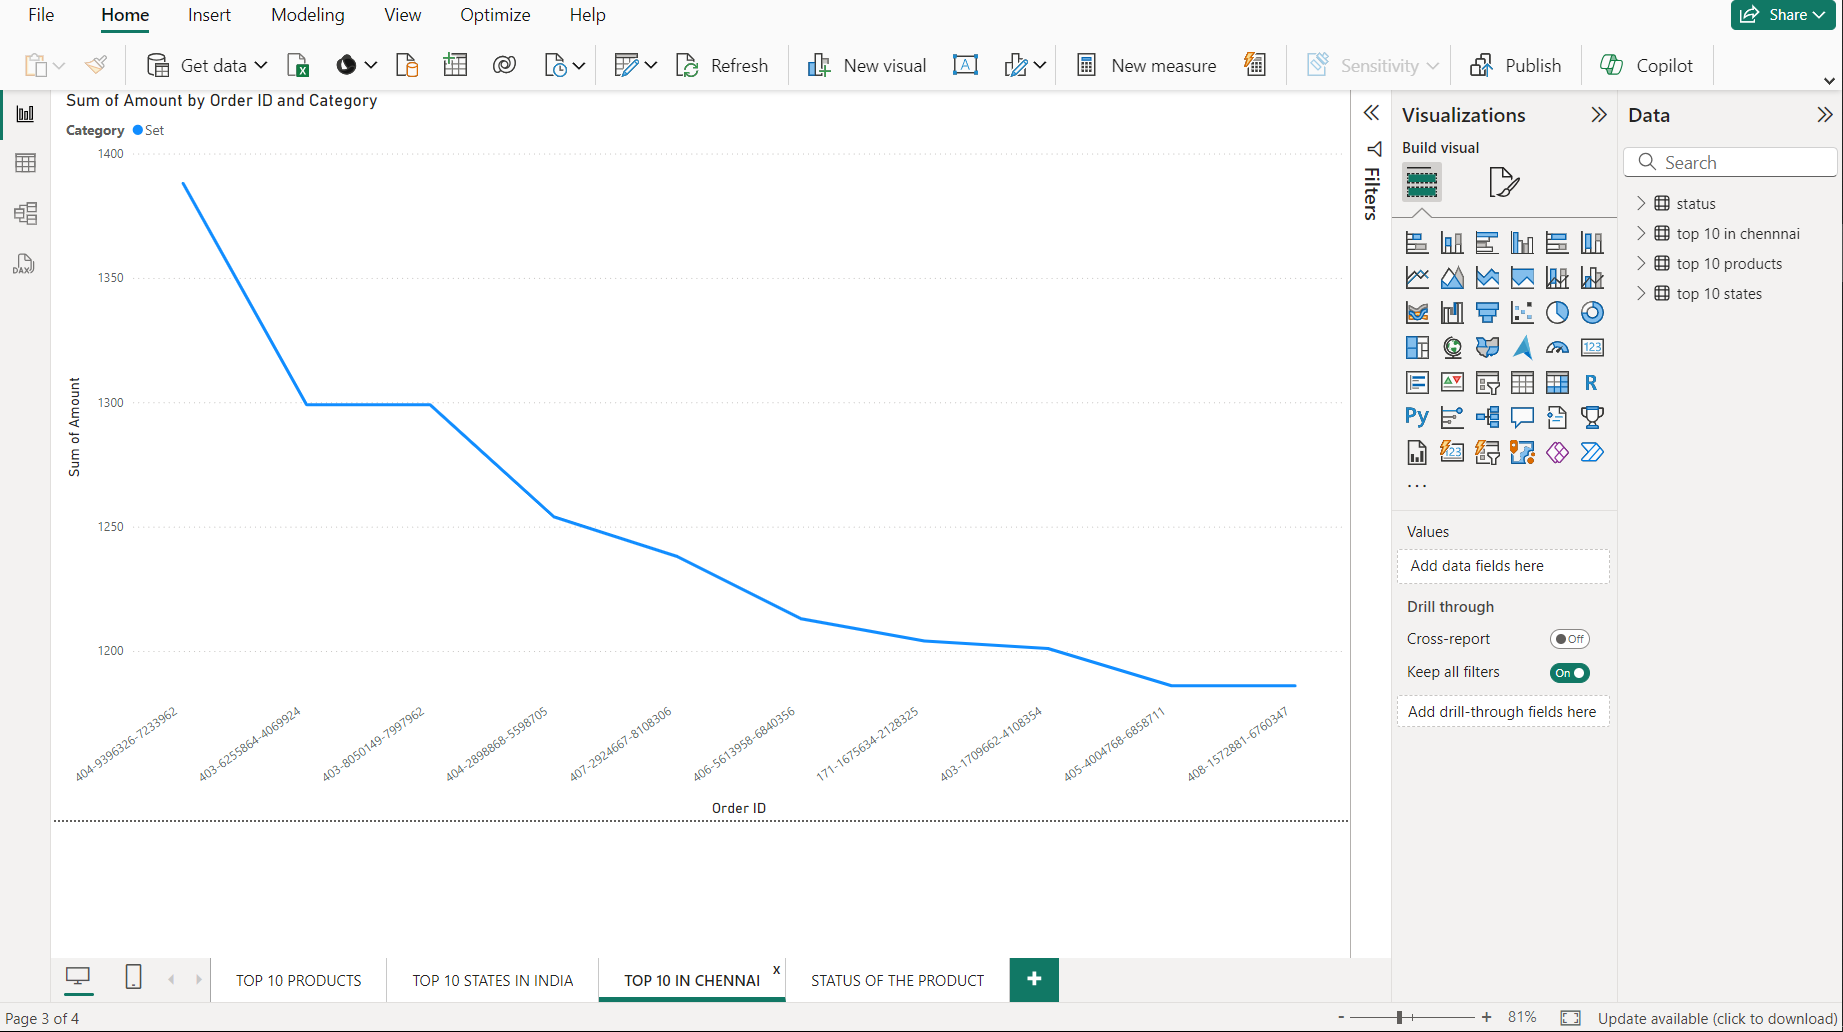

The dashboard page shown, as its layout file describes it:
{"tool":"powerbi","page":{"name":"TOP 10 IN CHENNAI","canvas":[1280,720],"ordinal":2},"visuals":[{"type":"lineChart","fields":{"Category":["top 10 in chennnai.Order ID"],"Series":["top 10 in chennnai.Category"],"Y":["Sum(top 10 in chennnai.Amount)"]},"box":[9.9,0,1269.9,720.6],"z":0}]}

Visuals, with their boxes on the page's 1280x720 design canvas (x1, y1, x2, y2). These are canvas units, not pixel positions in the 1843x1032 screenshot, which may show the page scaled, cropped or inside an application window:
lineChart - top 10 in chennnai.Order ID x top 10 in chennnai.Category: [10,0,1280,721]
